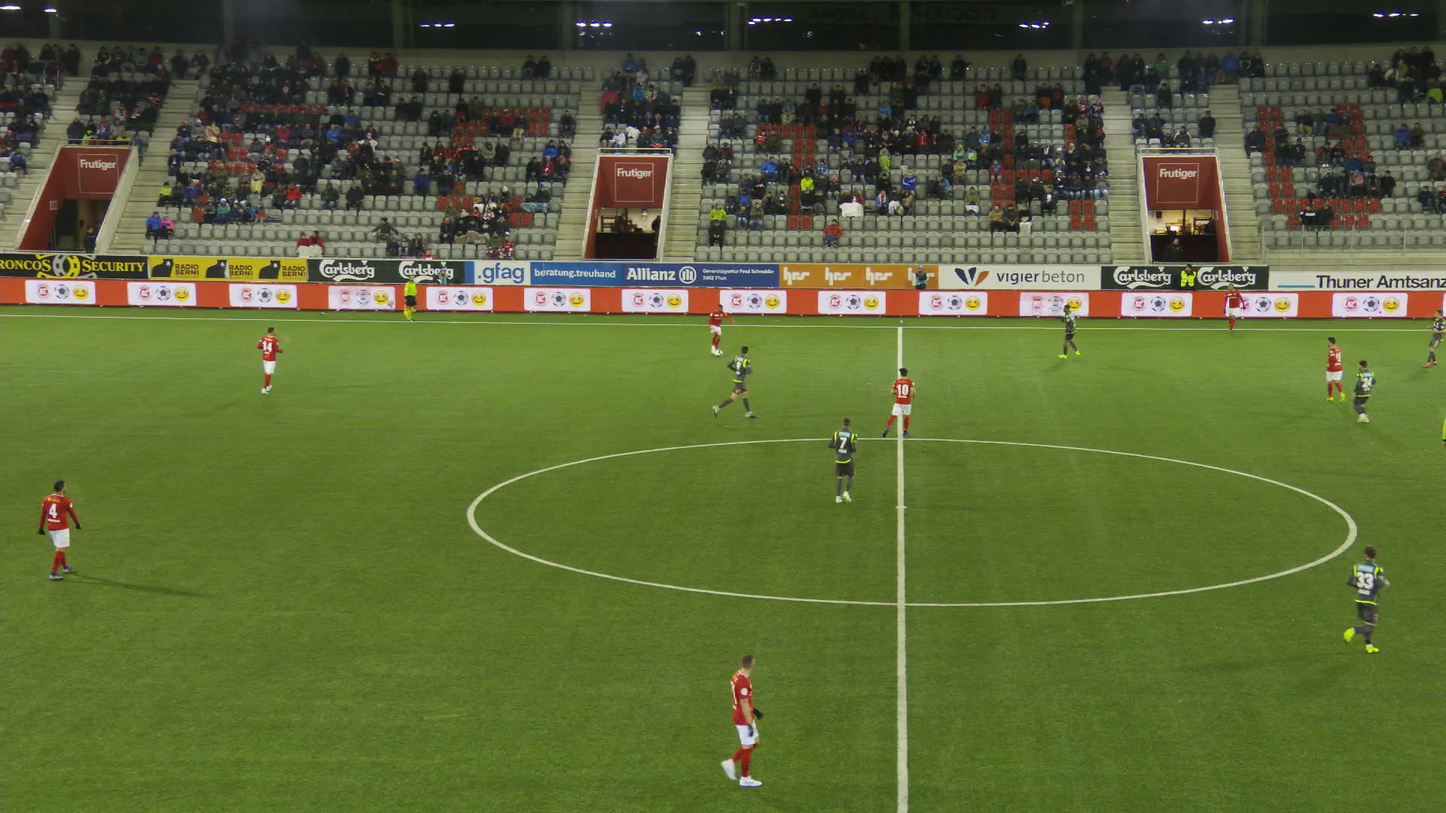ball: (715, 349, 723, 355)
player: (718, 655, 764, 787), (1342, 547, 1391, 653), (38, 479, 82, 579), (710, 346, 755, 420), (878, 367, 916, 437), (828, 418, 859, 502), (255, 325, 283, 394), (1352, 360, 1376, 423), (1421, 309, 1445, 368), (1324, 336, 1345, 403), (707, 304, 734, 355), (1057, 304, 1081, 359), (1223, 282, 1245, 331)
referee: (402, 275, 417, 321), (1440, 416, 1445, 448)
